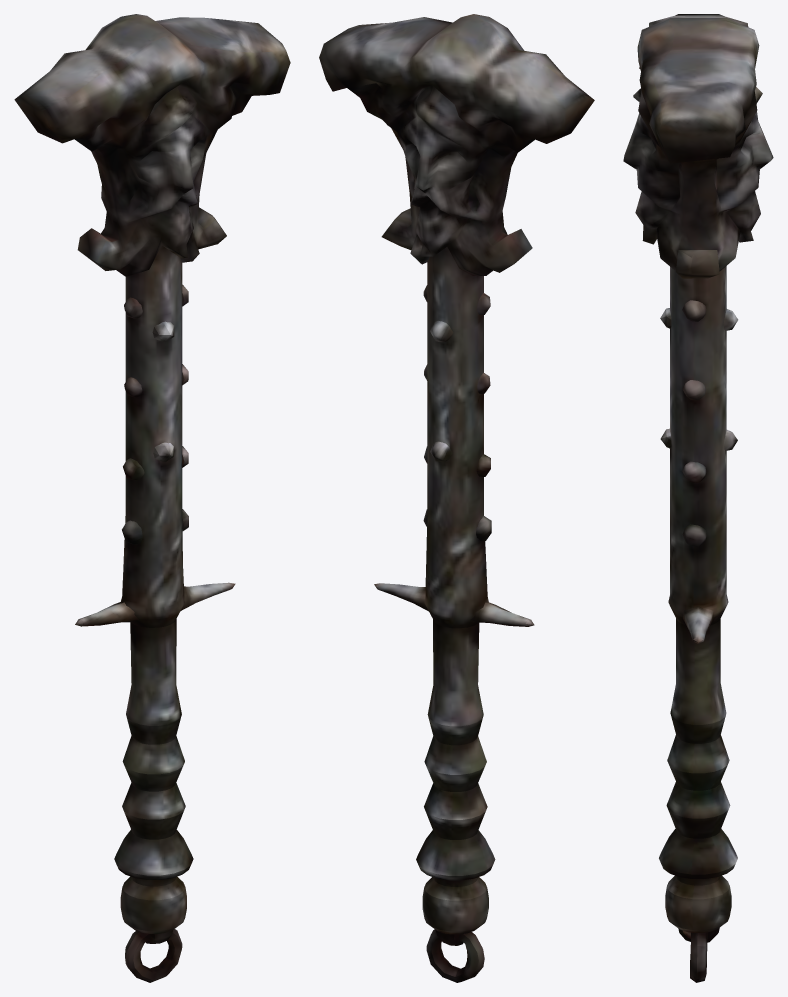
Rendered from weapon-the-last-word.glb.
The picture shows the model from 3 angles, left to right: view 1: azimuth 30°, elevation 25°; view 2: azimuth 150°, elevation 25°; view 3: azimuth 270°, elevation 25°; orthographic projection.
Parts seen in each view (by area): view 1: MaceC_MDL_q; view 2: MaceC_MDL_q; view 3: MaceC_MDL_q.
Boxes of the visible parts, left/top/right/bottom form: MaceC_MDL_q: left=14, top=14, right=290, bottom=982; MaceC_MDL_q: left=319, top=14, right=594, bottom=982; MaceC_MDL_q: left=623, top=14, right=773, bottom=982.
Bounding box in the file's own units: 0.3562 × 1.34 × 0.1908.
1 material, 1 textured.
